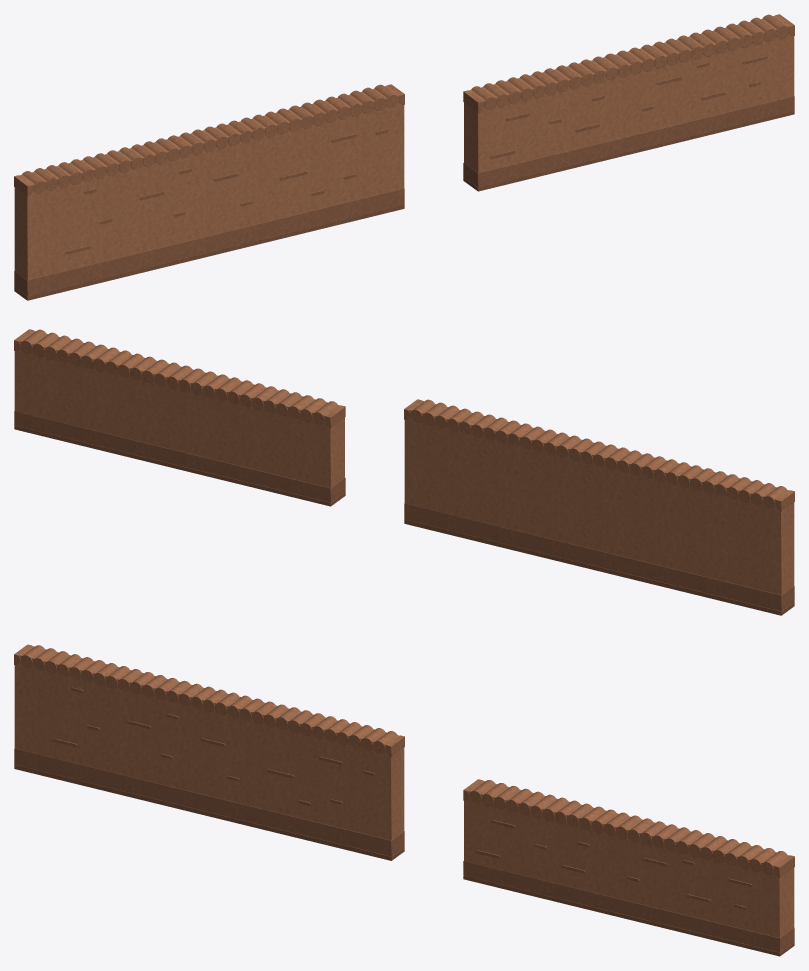
The model's file is grond_level3.glb.
The picture shows the model from 3 angles, top to bottom: view 1: azimuth 30°, elevation 25°; view 2: azimuth 150°, elevation 25°; view 3: azimuth 330°, elevation 25°; orthographic projection.
Visible parts, largest first — view 1: grond_L3_01, grond_L3_02; view 2: grond_L3_01, grond_L3_02; view 3: grond_L3_01, grond_L3_02.
Boxes of the visible parts, box(x1,y1,x2,y2) form: grond_L3_01: box(14, 84, 404, 300); grond_L3_02: box(463, 14, 794, 191); grond_L3_01: box(404, 399, 794, 615); grond_L3_02: box(14, 329, 345, 506); grond_L3_01: box(14, 644, 404, 860); grond_L3_02: box(463, 779, 794, 956).
Size of the model in its own units: 37.83 by 5.52 by 1.31.
4 materials, 4 textured.
